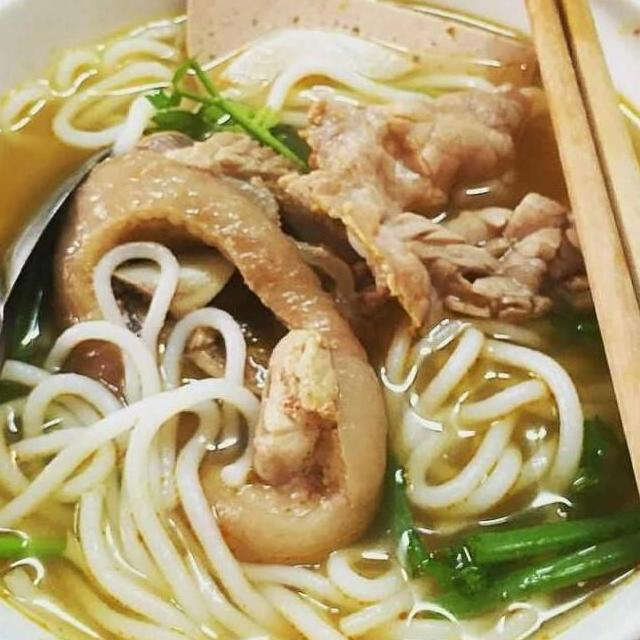bun: (0, 208, 315, 640), (365, 292, 640, 523), (236, 501, 564, 640), (23, 10, 218, 166), (238, 52, 508, 152)
bun bo: (0, 0, 640, 640)
thit bo: (272, 76, 542, 342), (376, 174, 640, 328)
